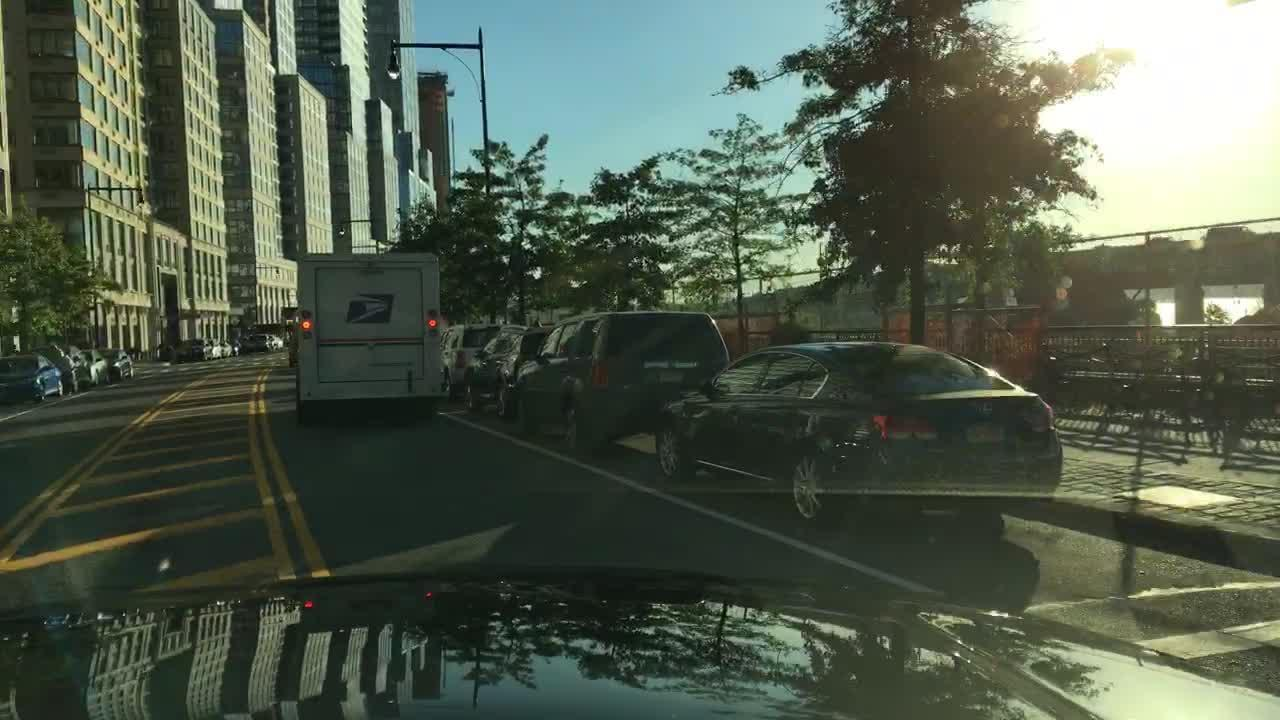lexus: (972, 397, 997, 423)
